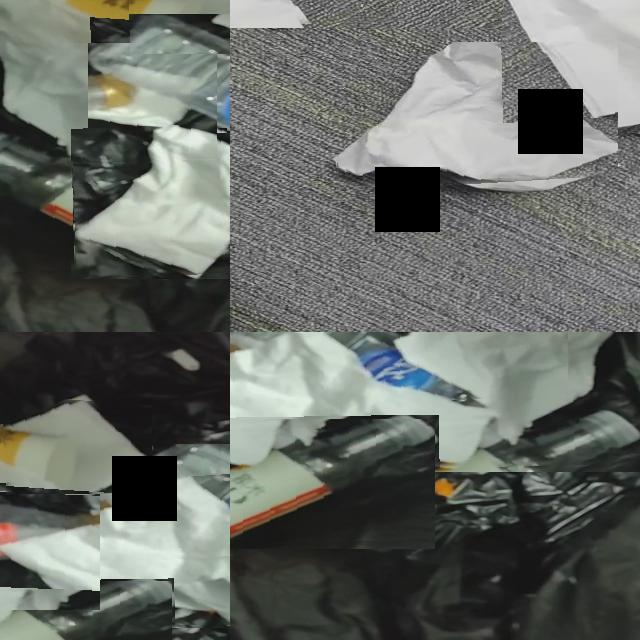bottle: (0, 131, 227, 265), (28, 444, 230, 568), (230, 419, 435, 539), (89, 15, 230, 134), (0, 581, 172, 640), (325, 332, 456, 408), (556, 339, 640, 404)
dixie_cup: (53, 0, 199, 43), (0, 428, 79, 489)
paper: (230, 332, 615, 469), (337, 42, 618, 184), (0, 0, 217, 165), (0, 486, 230, 620), (75, 133, 230, 275), (509, 0, 640, 132), (3, 399, 152, 494), (0, 475, 100, 582), (182, 0, 230, 54)
